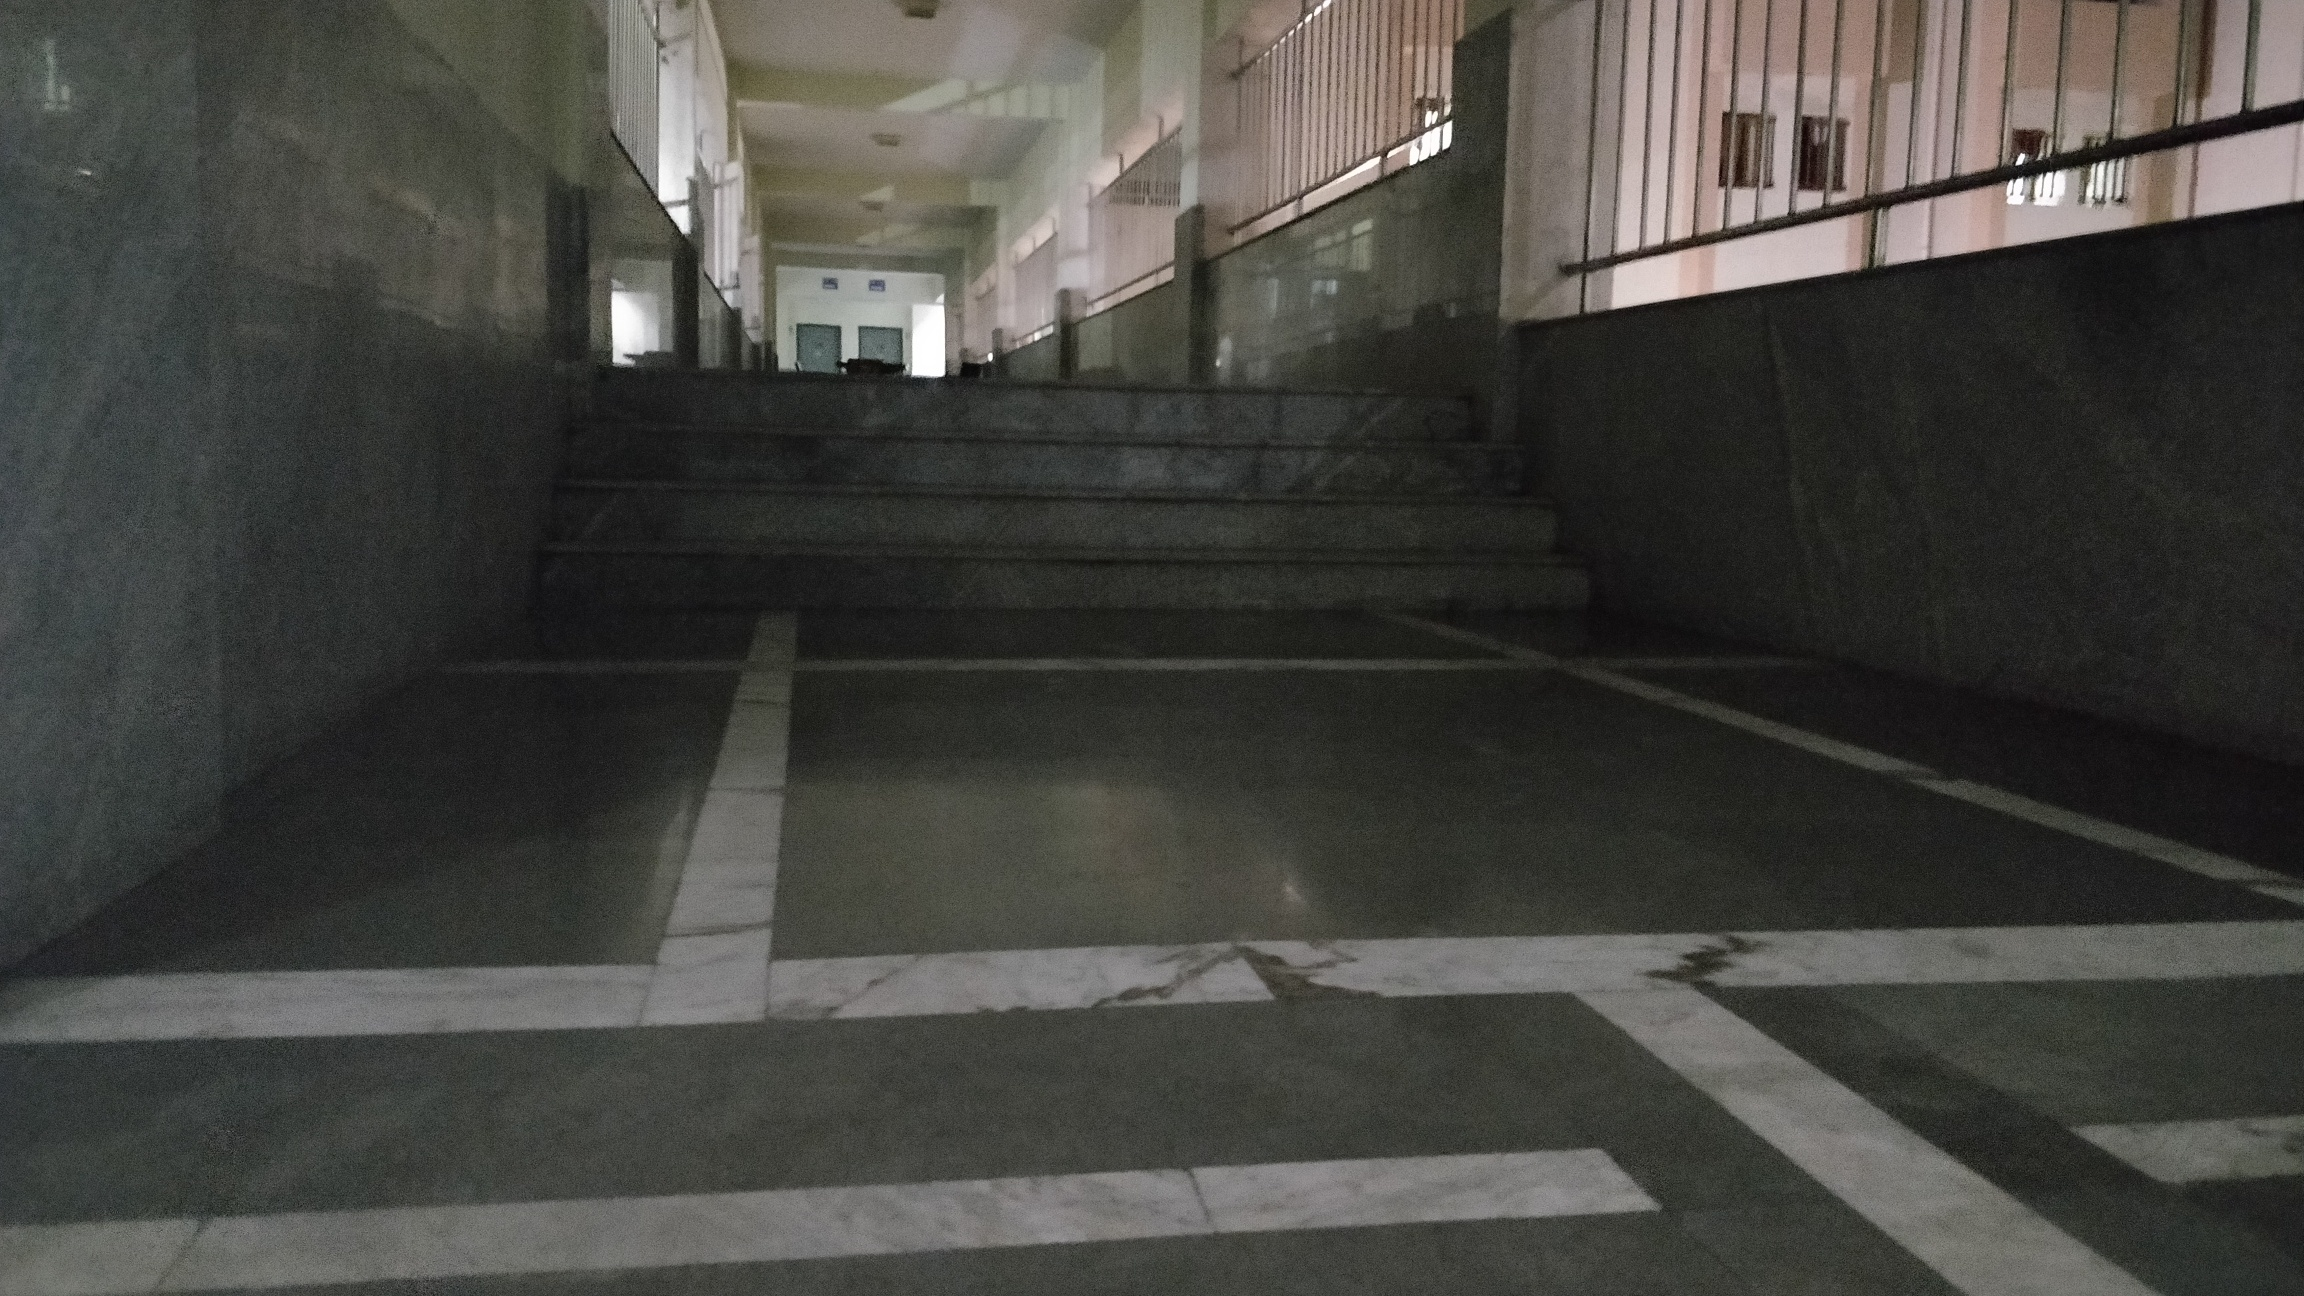stairs_up: (543, 353, 1571, 612)
